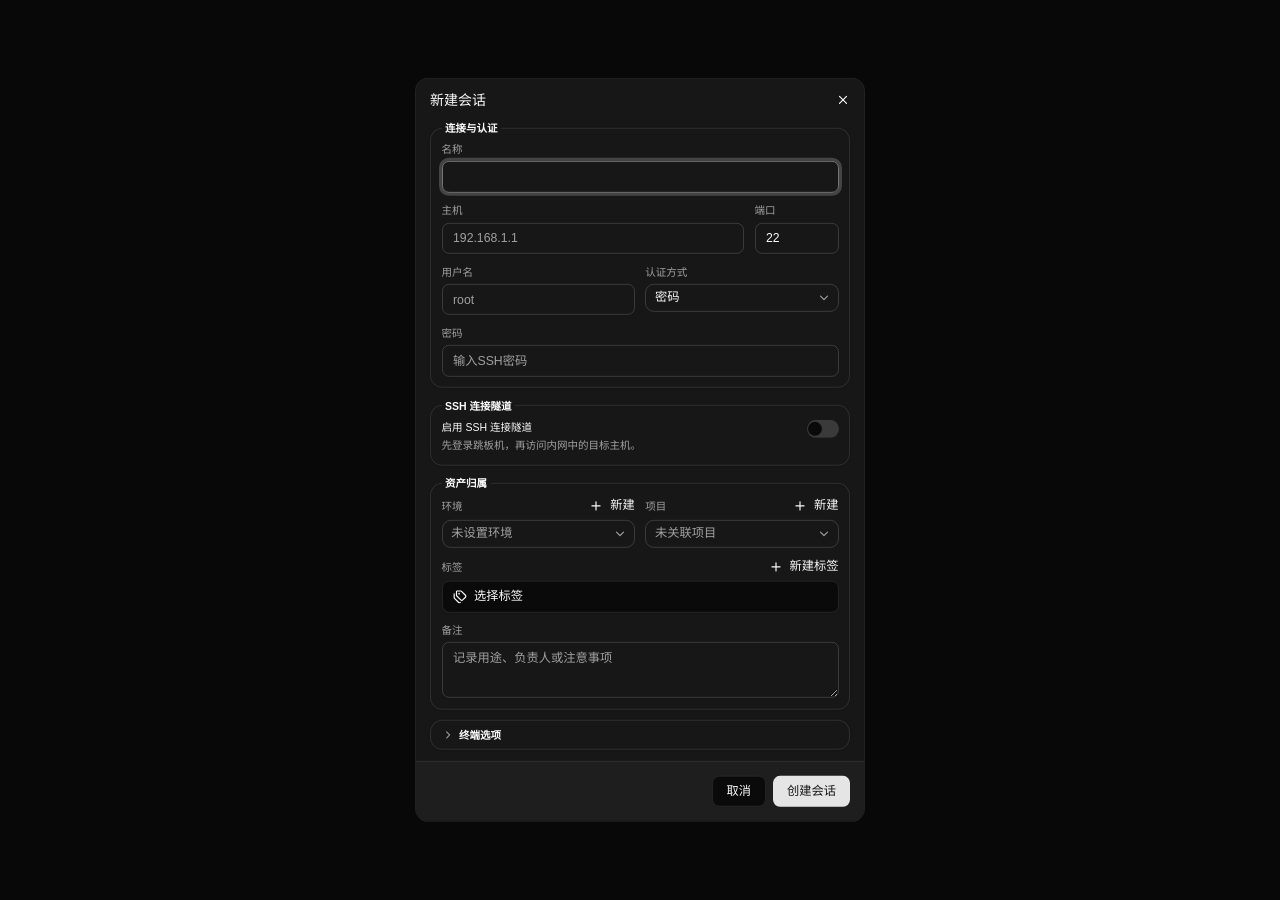
Scenario: SessionDialog SSH jump host › reveals jump host settings with port 22 only after enabling the tunnel
Click the switch named "启用 SSH 连接隧道" at (822, 428), box 806,419 -> 838,438
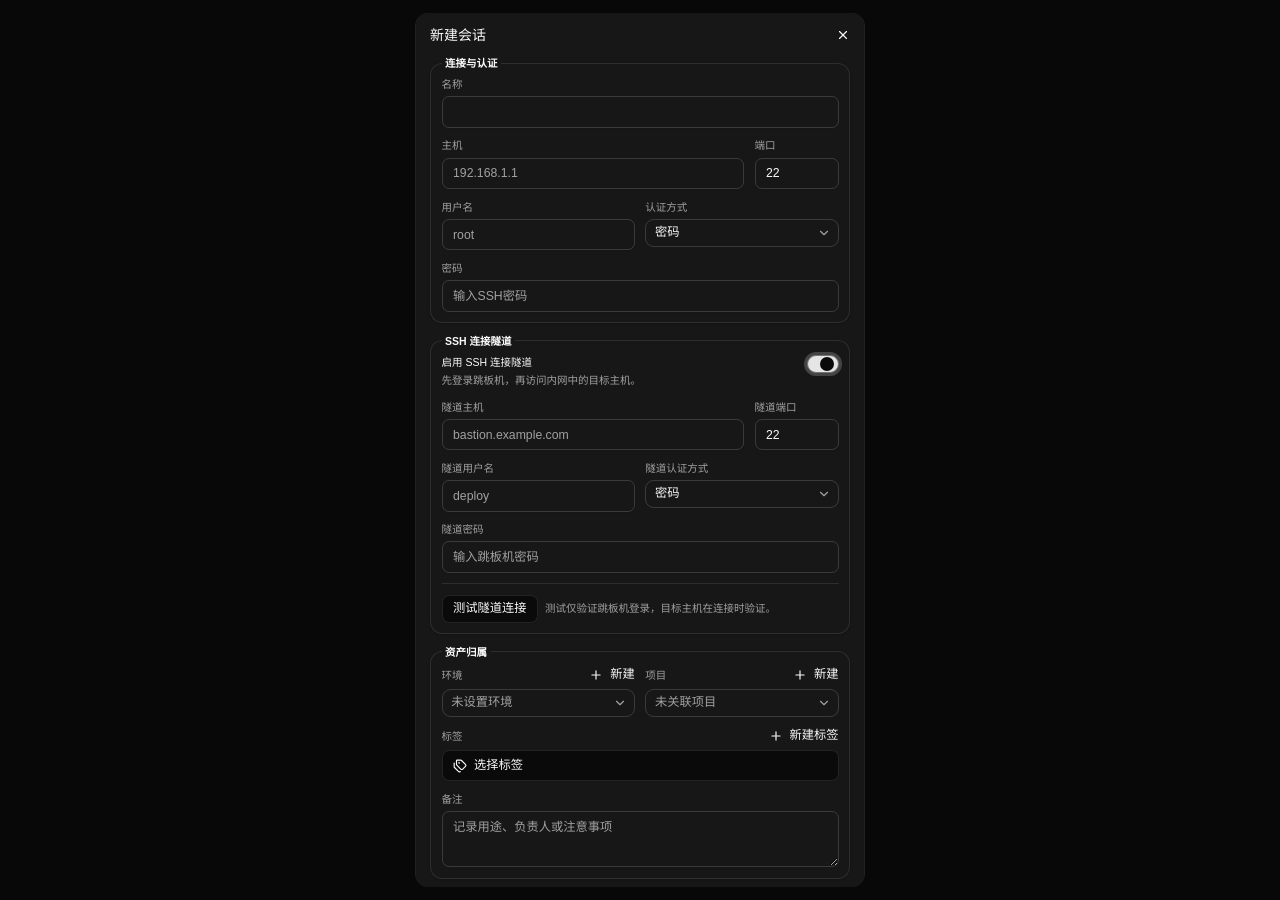
Expected: the field labelled "隧道主机" is empty, 442,419 -> 744,450
Expected: the number field labelled "隧道端口" holds "22", 754,419 -> 838,450
Expected: the field labelled "隧道用户名" is empty, 442,480 -> 635,512
